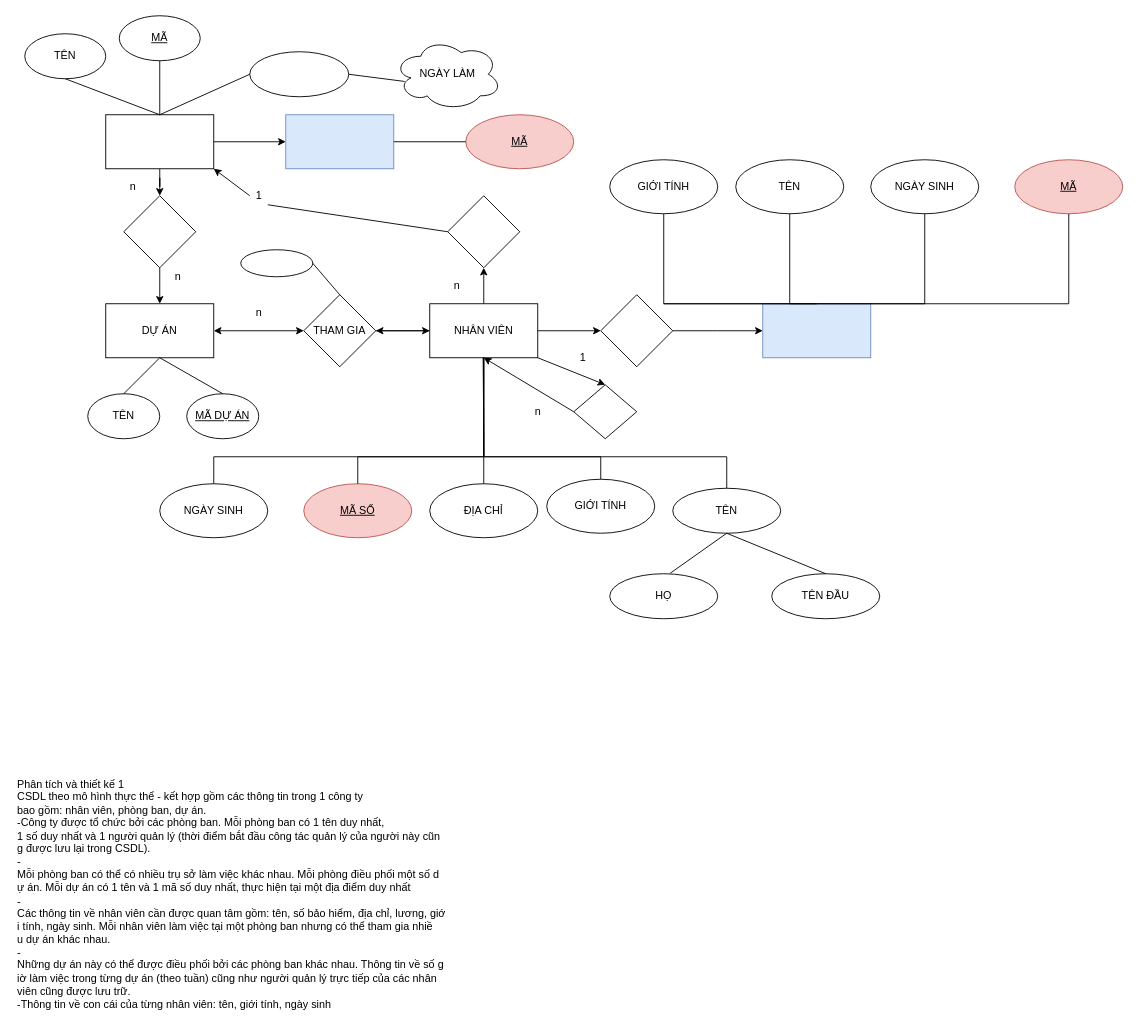
Image size: 1139x1031. Some labels were removed from this diagram. Here are the shapes that lost their labels. From the top down, the box of each, then its label:
(249, 51, 349, 97): NGƯỜI QUẢN LÝ
(105, 114, 214, 169): PHÒNG BAN
(285, 114, 394, 169): TRỤ SỞ
(123, 195, 196, 268): ĐIỀU PHỐI
(447, 195, 520, 268): LÀM VIỆC
(240, 249, 313, 277): so gio lam
(600, 294, 673, 367): BẢO HỘ
(762, 303, 871, 358): NGƯỜI PHỤ THUỘC
(573, 384, 637, 439): giam sat
